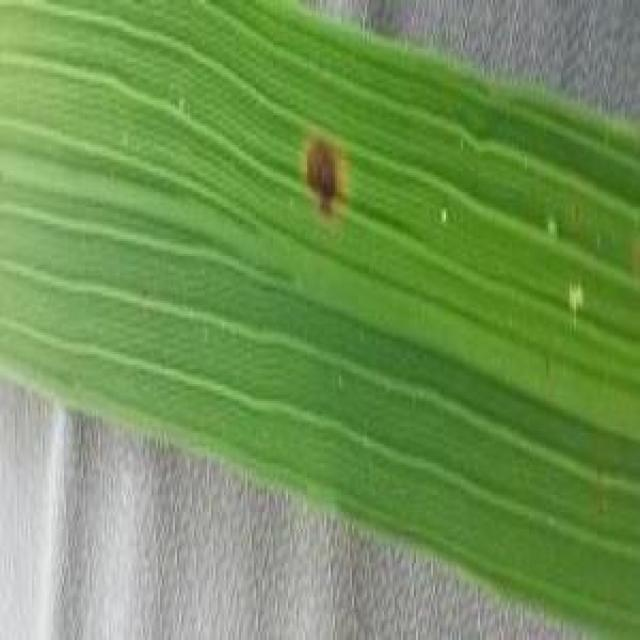Brown_Spot: (294, 121, 360, 232)
